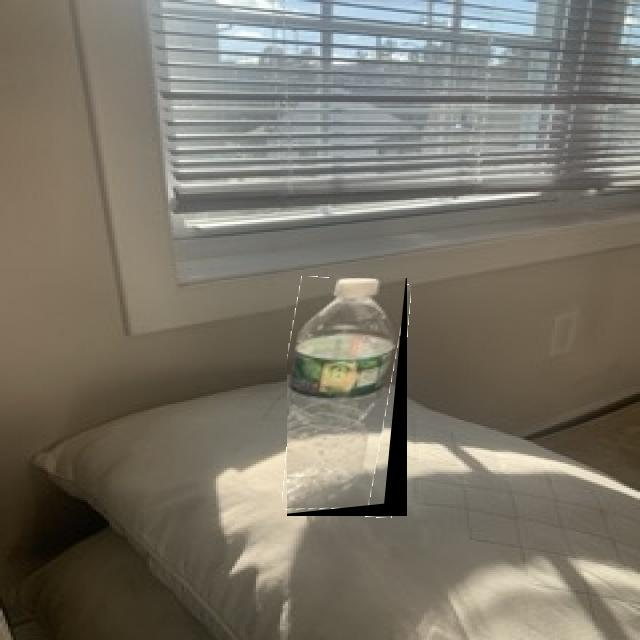water_bottle: (287, 278, 407, 516)
